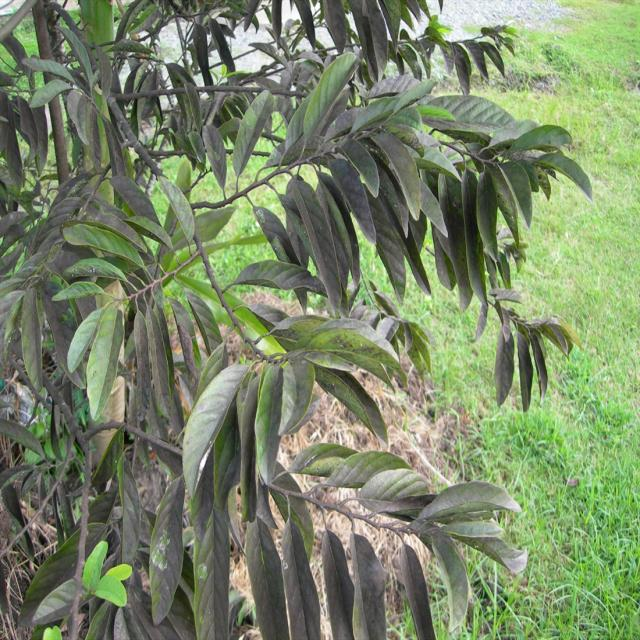Sooty Mold: (1, 0, 592, 638)
